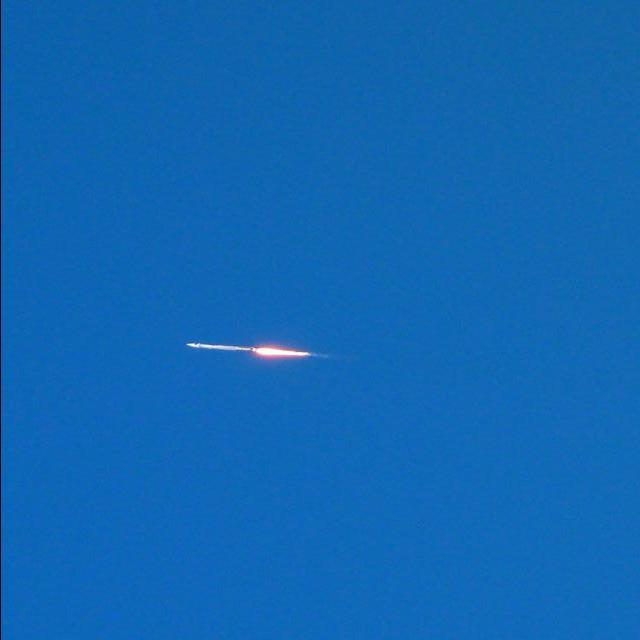missile: (185, 341, 257, 353)
